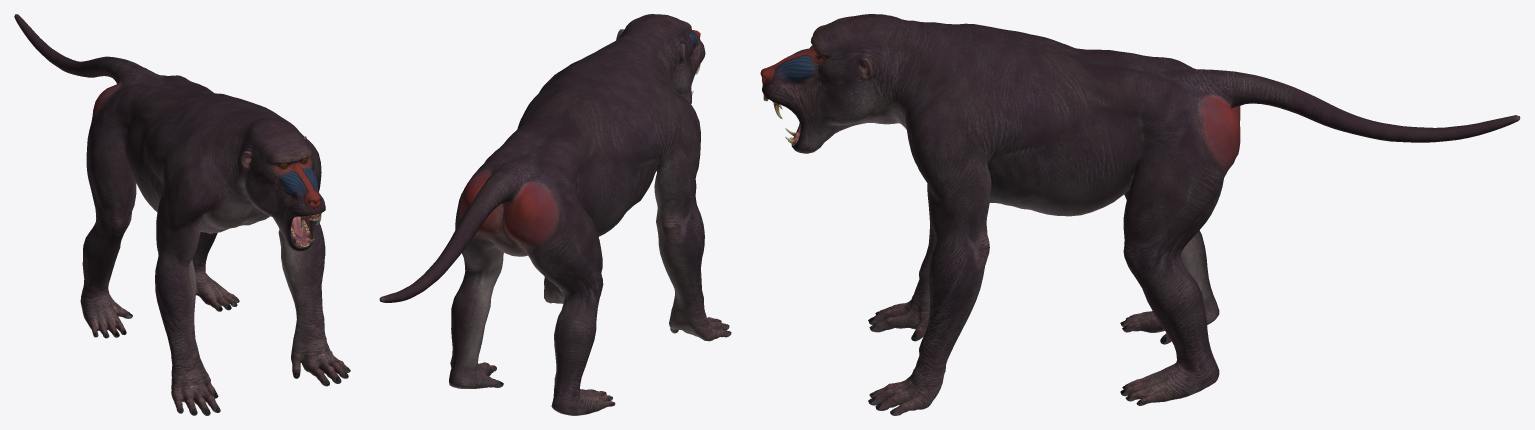
The picture shows the model from 3 angles, left to right: view 1: azimuth 30°, elevation 25°; view 2: azimuth 150°, elevation 25°; view 3: azimuth 270°, elevation 25°; orthographic projection. The views are drawn at different scales.
Parts seen in each view (by area): view 1: Body_0, Mesh5_0_Dinopithecus_master:body_mat_0; view 2: Body_0; view 3: Body_0.
Part boxes in pixels (<box>): Body_0: <box>14,14,350,415</box>; Mesh5_0_Dinopithecus_master:body_mat_0: <box>291,212,321,247</box>; Body_0: <box>379,14,731,415</box>; Body_0: <box>760,14,1520,415</box>.
Bounding box in the file's own units: 1.79 × 2.75 × 5.45.
Materials: 1 (1 with a texture image).
